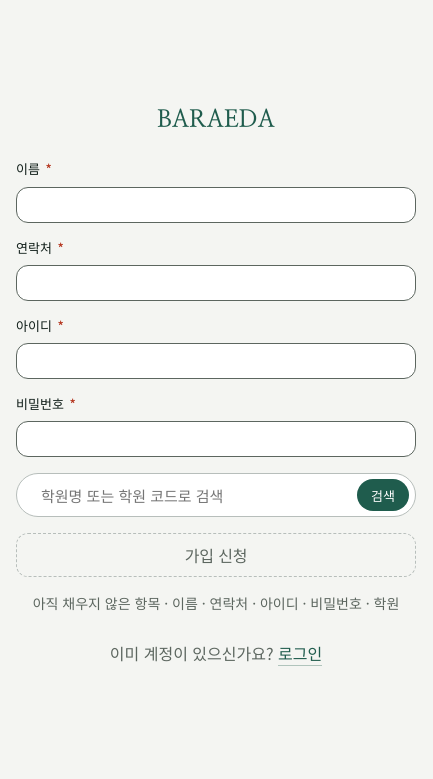
Test: SignupForm › 검색 결과가 20건이면 검색어를 좁혀 달라고 안내한다
This screenshot has width=433, height=779.
Step 1. Type "학" into the field with placeholder "학원명 또는 학원 코드로 검색" → (194, 495), box [39,484,349,507]
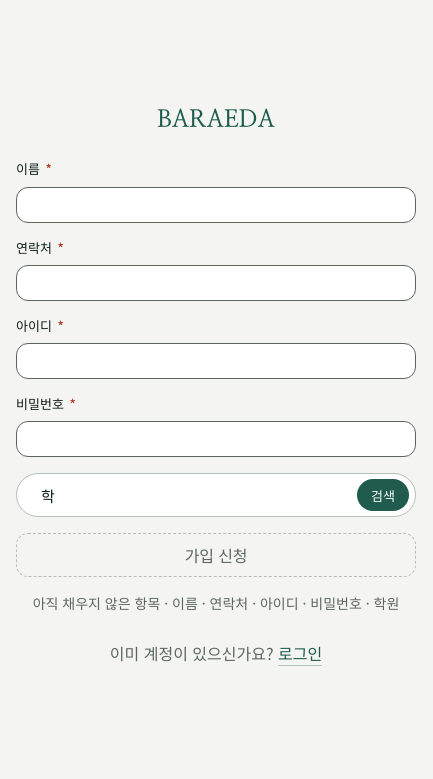
Step 2. Click the button "검색" → (383, 495), box [357,479,409,511]
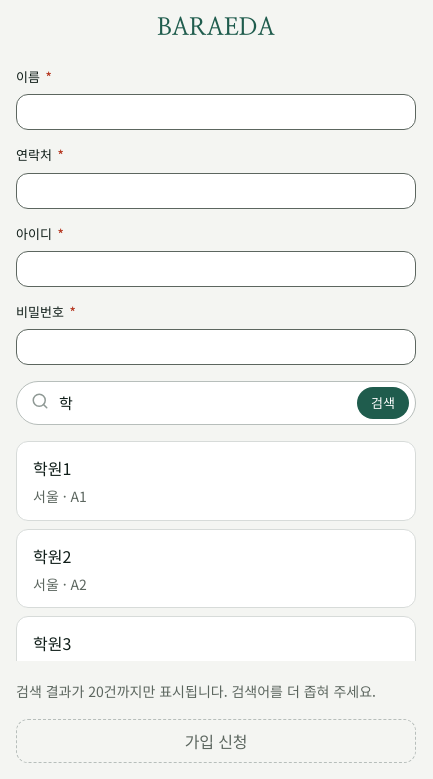
Expected: the text "검색 결과가 20건까지만 표시됩니다. 검색어를 더 좁혀 주세요." is shown, [16,681,416,703]
